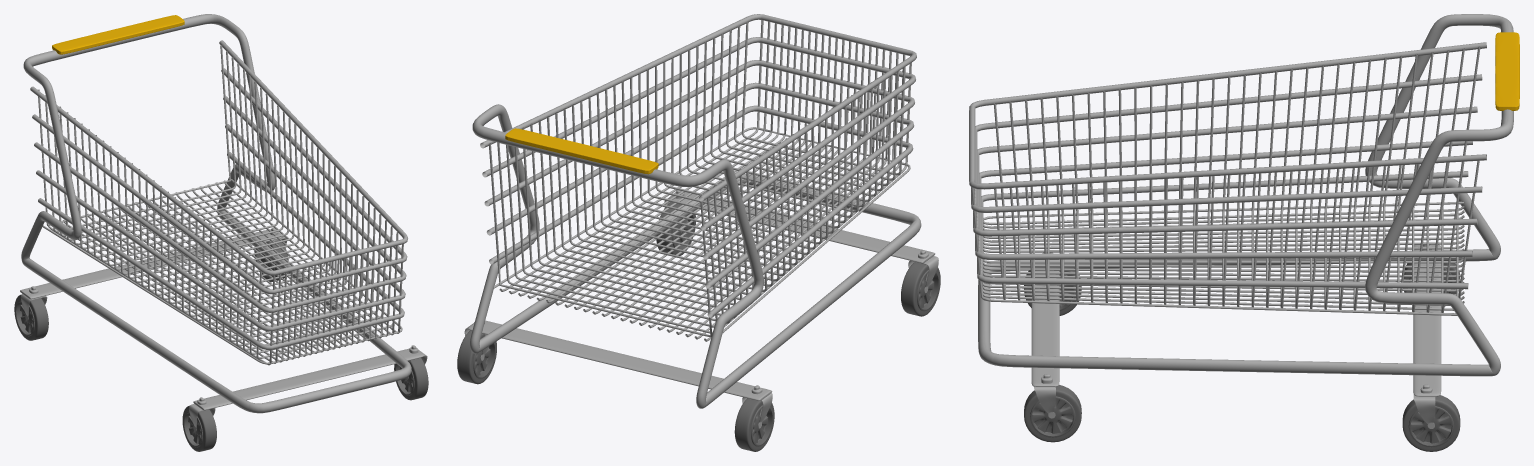
The model's file is cartpiv.fbx.
The picture shows the model from 3 angles, left to right: view 1: azimuth 30°, elevation 25°; view 2: azimuth 150°, elevation 25°; view 3: azimuth 270°, elevation 25°; orthographic projection. The views are drawn at different scales.
Visible parts, largest first — view 1: pizom, poprzeczne, pion, Cube, Cube.002, Cube.006, Cube.003, Cylinder.001, Cylinder, Cylinder.005; view 2: pizom, poprzeczne, pion, Cube, Cube.003, Cube.006, Cube.002, Cylinder, Cylinder.001, Cylinder.006, Cylinder.005; view 3: poprzeczne, pizom, pion, Cube, Cube.003, Cube.002, Cylinder.005, Cylinder.006, Cube.006, Cylinder.007, Cylinder.002.
Boxes of the visible parts, <box> form: pizom: <box>38,45,398,358</box>; poprzeczne: <box>30,40,407,349</box>; pion: <box>42,179,403,365</box>; Cube: <box>21,14,411,413</box>; Cube.002: <box>193,348,424,410</box>; Cube.006: <box>52,15,184,54</box>; Cube.003: <box>20,229,282,299</box>; Cylinder.001: <box>14,294,48,340</box>; Cylinder: <box>182,405,216,451</box>; Cylinder.005: <box>394,357,428,400</box>; pizom: <box>488,22,905,337</box>; poprzeczne: <box>480,14,916,317</box>; pion: <box>494,20,911,341</box>; Cube: <box>470,104,921,408</box>; Cube.003: <box>468,320,772,400</box>; Cube.006: <box>505,128,658,174</box>; Cube.002: <box>669,192,935,263</box>; Cylinder: <box>901,262,940,316</box>; Cylinder.001: <box>734,398,774,451</box>; Cylinder.006: <box>457,330,496,384</box>; Cylinder.005: <box>656,202,695,255</box>; poprzeczne: <box>969,42,1486,289</box>; pizom: <box>993,46,1480,312</box>; pion: <box>971,187,1464,315</box>; Cube: <box>978,14,1513,376</box>; Cube.003: <box>1413,244,1441,396</box>; Cube.002: <box>1031,270,1059,386</box>; Cylinder.005: <box>1024,385,1081,442</box>; Cylinder.006: <box>1402,395,1460,451</box>; Cube.006: <box>1495,32,1519,110</box>; Cylinder.007: <box>1413,384,1435,428</box>; Cylinder.002: <box>1034,374,1055,418</box>.
Bounding box in the file's own units: 171 × 160 × 260.
